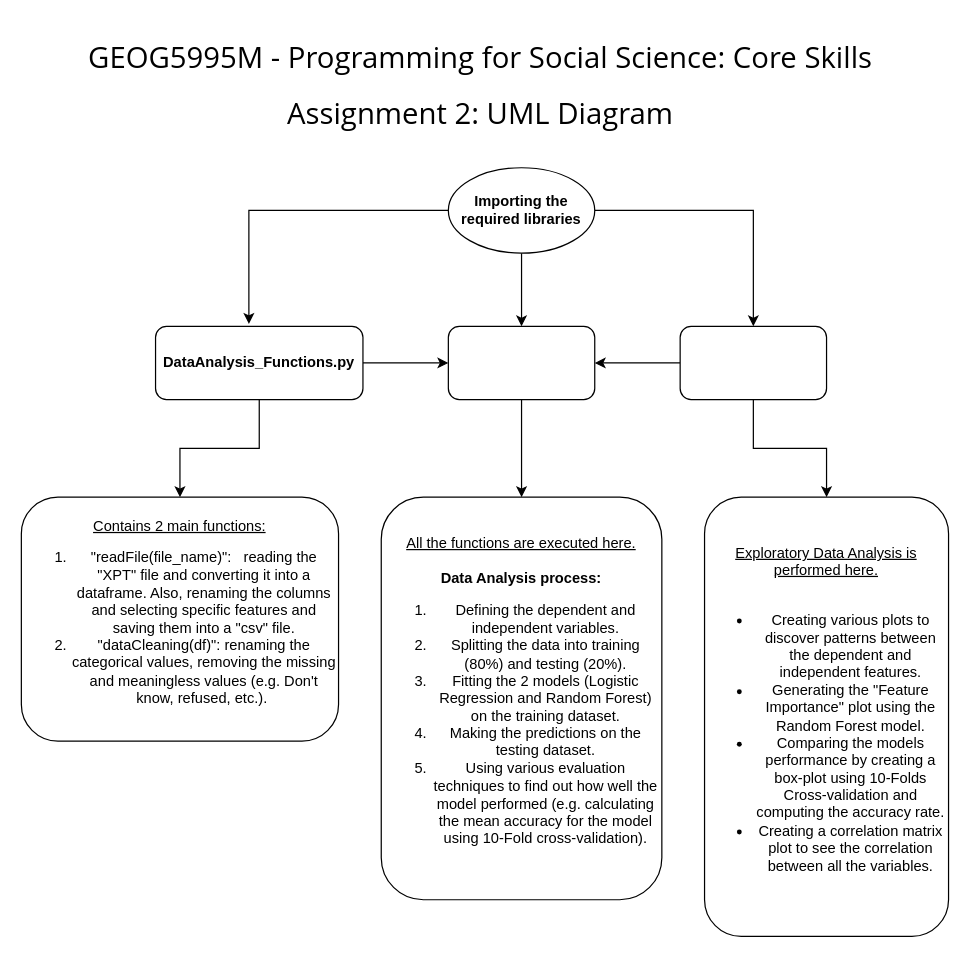
Image size: 970x958. Some labels were removed from this diagram. The box of each missing label's shape, as (x1, y1, x2, y2) in pixels:
DataAnalysis.py: (447, 325, 595, 400)
Plots.py: (679, 325, 827, 400)
